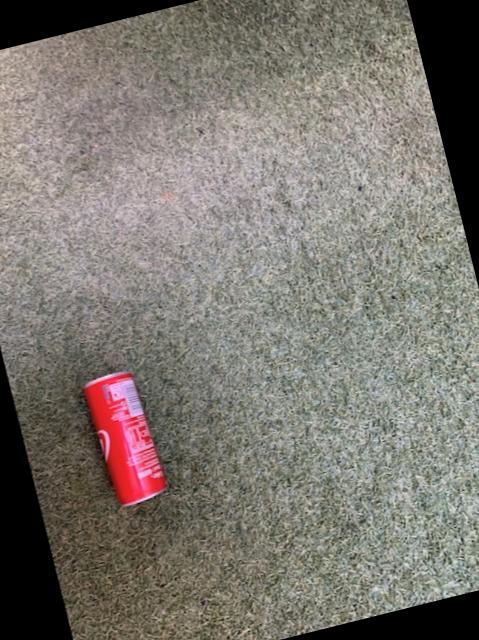metal: (82, 371, 164, 505)
